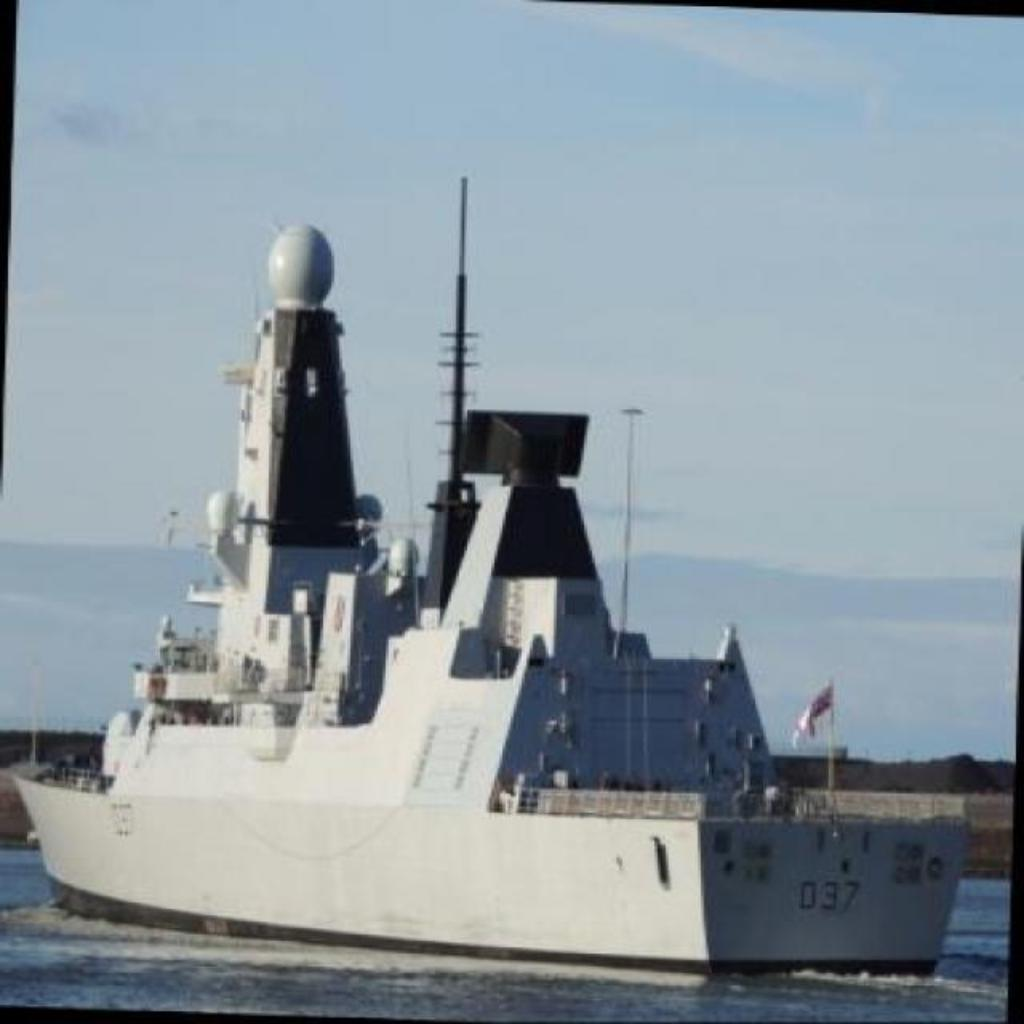Warship: (4, 192, 988, 988)
